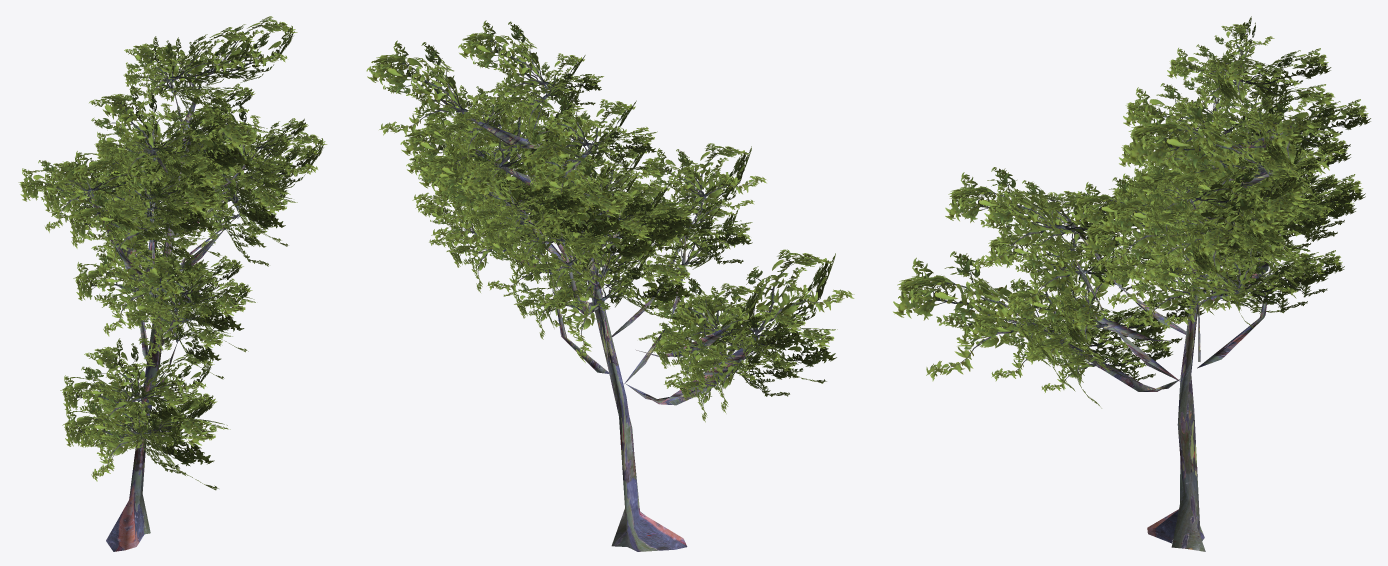
File: LowPolyTree9_5.fbx
The picture shows the model from 3 angles, left to right: view 1: azimuth 30°, elevation 25°; view 2: azimuth 150°, elevation 25°; view 3: azimuth 270°, elevation 25°; orthographic projection. The views are drawn at different scales.
Visible parts, largest first — view 1: Tree9_5; view 2: Tree9_5; view 3: Tree9_5.
Boxes of the visible parts, <box> form: Tree9_5: <box>18,16,327,551</box>; Tree9_5: <box>366,20,854,551</box>; Tree9_5: <box>893,16,1370,551</box>.
Size of the model in its own units: 1771 by 2378 by 1847.
Materials: 2 (2 with a texture image).
